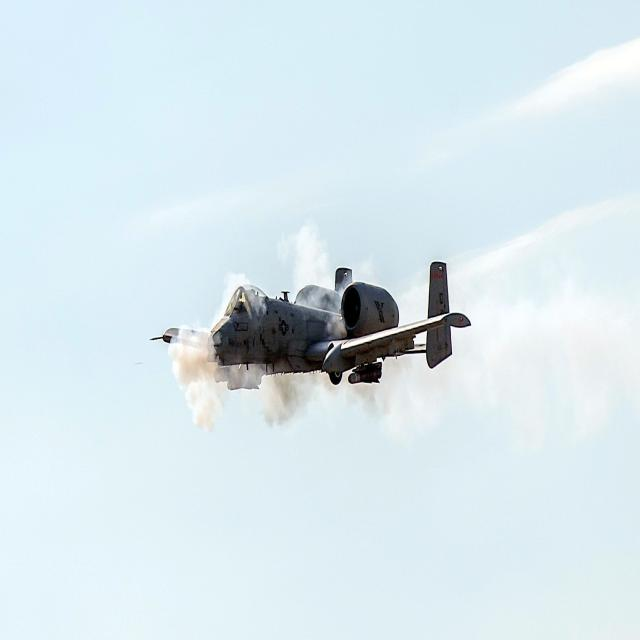A10: (128, 159, 484, 464)
